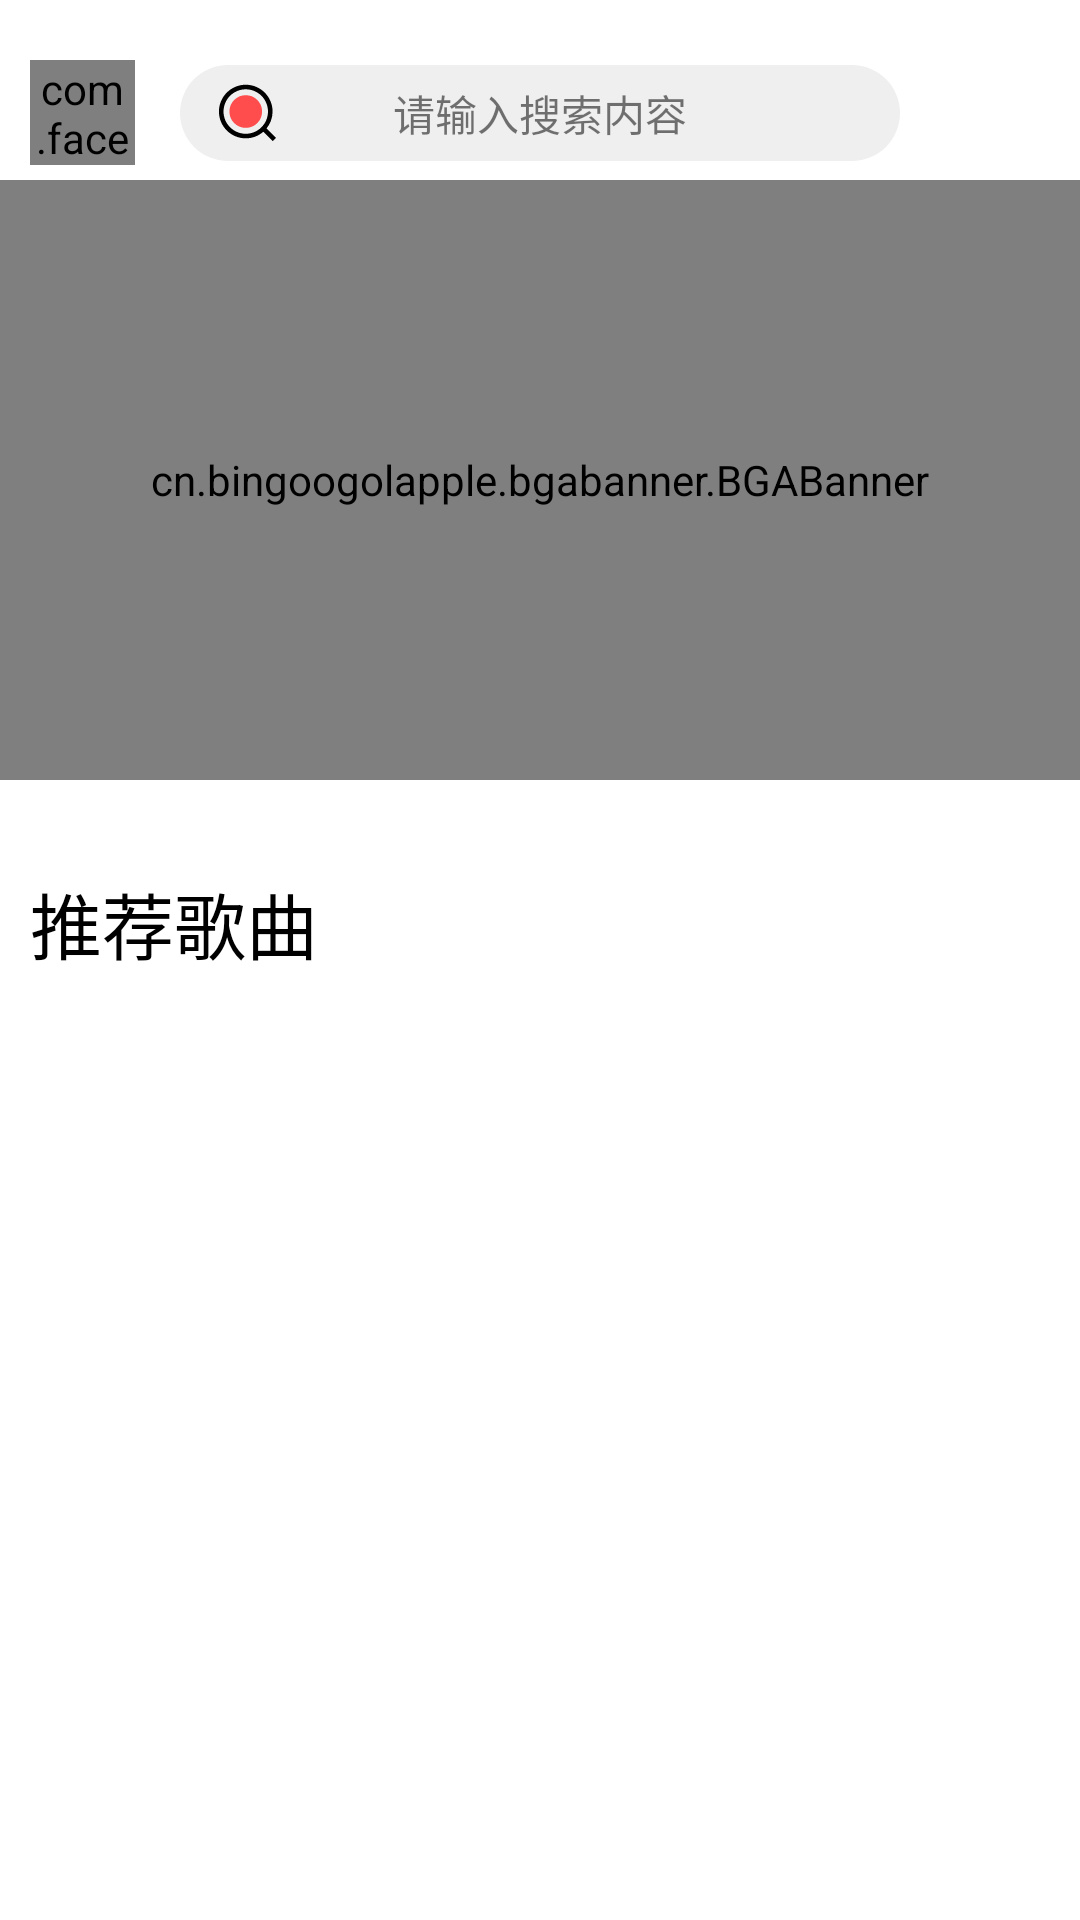

Named icons in this screenshot (1080px×1920px) and their centers, [x,y]:
search: [247,112]
